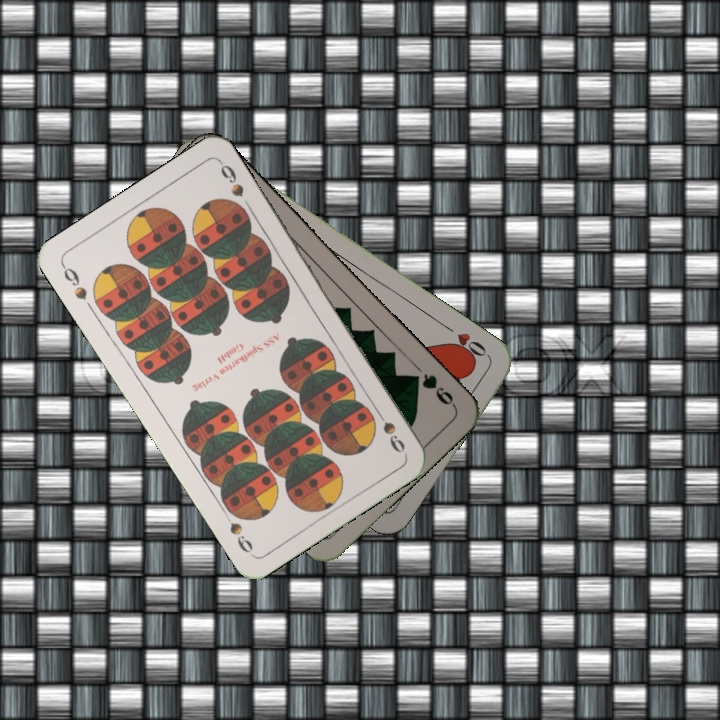G9: (405, 369, 458, 410)
HO: (439, 320, 491, 364)
S9: (370, 403, 408, 456), (57, 260, 90, 303)
